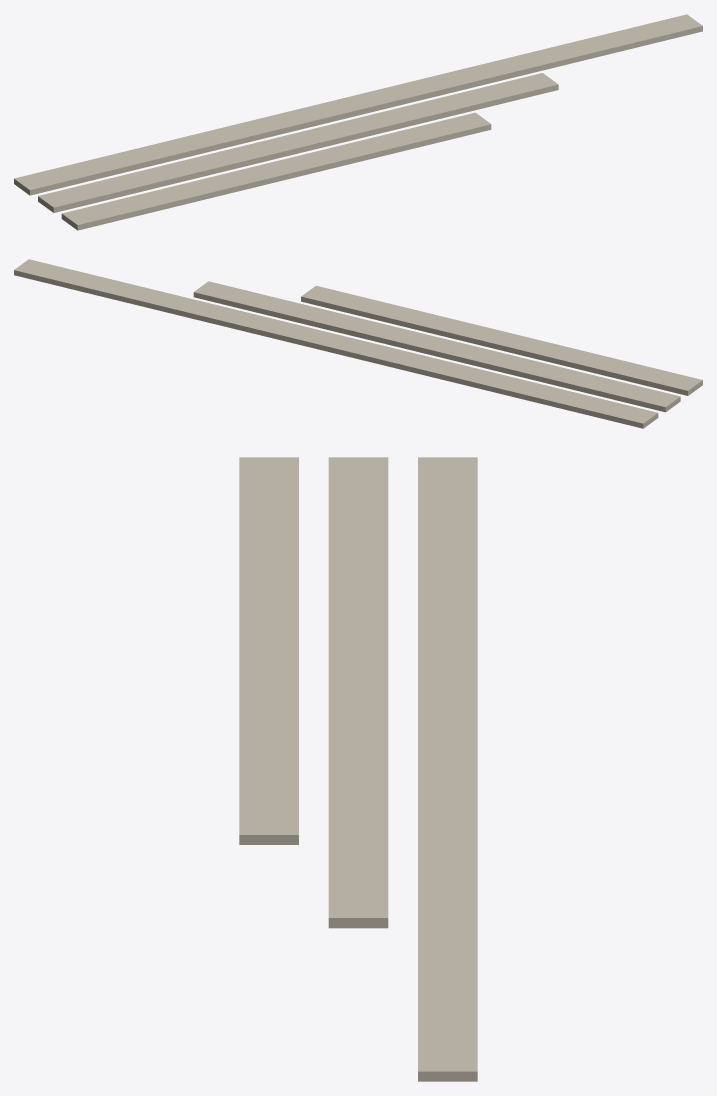
The model's file is deck-board-200x38_areia-gris_v0.1.dae.
3 renders of one model, top to bottom at view 1: azimuth 30°, elevation 25°; view 2: azimuth 150°, elevation 25°; view 3: azimuth 270°, elevation 25°, orthographic. The views are drawn at different scales.
Visible parts, largest first — view 1: deck-board-200x38_deck-board-200x38_areia-gris_4880mm, deck-board-200x38_deck-board-200x38_areia-gris_3660mm, deck-board-200x38_deck-board-200x38_areia-gris_3000mm; view 2: deck-board-200x38_deck-board-200x38_areia-gris_4880mm, deck-board-200x38_deck-board-200x38_areia-gris_3660mm, deck-board-200x38_deck-board-200x38_areia-gris_3000mm; view 3: deck-board-200x38_deck-board-200x38_areia-gris_4880mm, deck-board-200x38_deck-board-200x38_areia-gris_3660mm, deck-board-200x38_deck-board-200x38_areia-gris_3000mm.
Part boxes in pixels (x1=…): deck-board-200x38_deck-board-200x38_areia-gris_4880mm: x1=14, y1=14, x2=702, y2=195; deck-board-200x38_deck-board-200x38_areia-gris_3660mm: x1=38, y1=73, x2=558, y2=212; deck-board-200x38_deck-board-200x38_areia-gris_3000mm: x1=61, y1=112, x2=491, y2=230; deck-board-200x38_deck-board-200x38_areia-gris_4880mm: x1=14, y1=259, x2=658, y2=428; deck-board-200x38_deck-board-200x38_areia-gris_3660mm: x1=193, y1=281, x2=680, y2=412; deck-board-200x38_deck-board-200x38_areia-gris_3000mm: x1=301, y1=285, x2=702, y2=395; deck-board-200x38_deck-board-200x38_areia-gris_4880mm: x1=418, y1=457, x2=477, y2=1081; deck-board-200x38_deck-board-200x38_areia-gris_3660mm: x1=328, y1=457, x2=388, y2=928; deck-board-200x38_deck-board-200x38_areia-gris_3000mm: x1=239, y1=457, x2=298, y2=844.
Size of the model in its own units: 4880 by 800 by 38.
